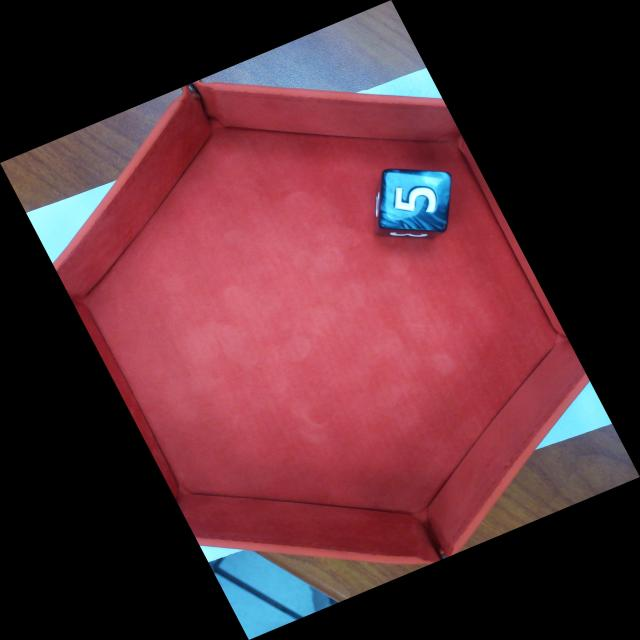dice: (379, 167, 452, 232)
